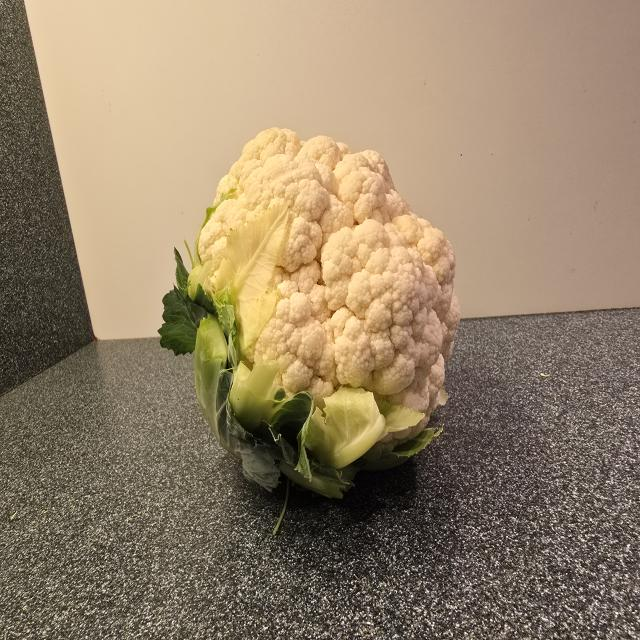Cauliflower: (155, 120, 471, 511)
